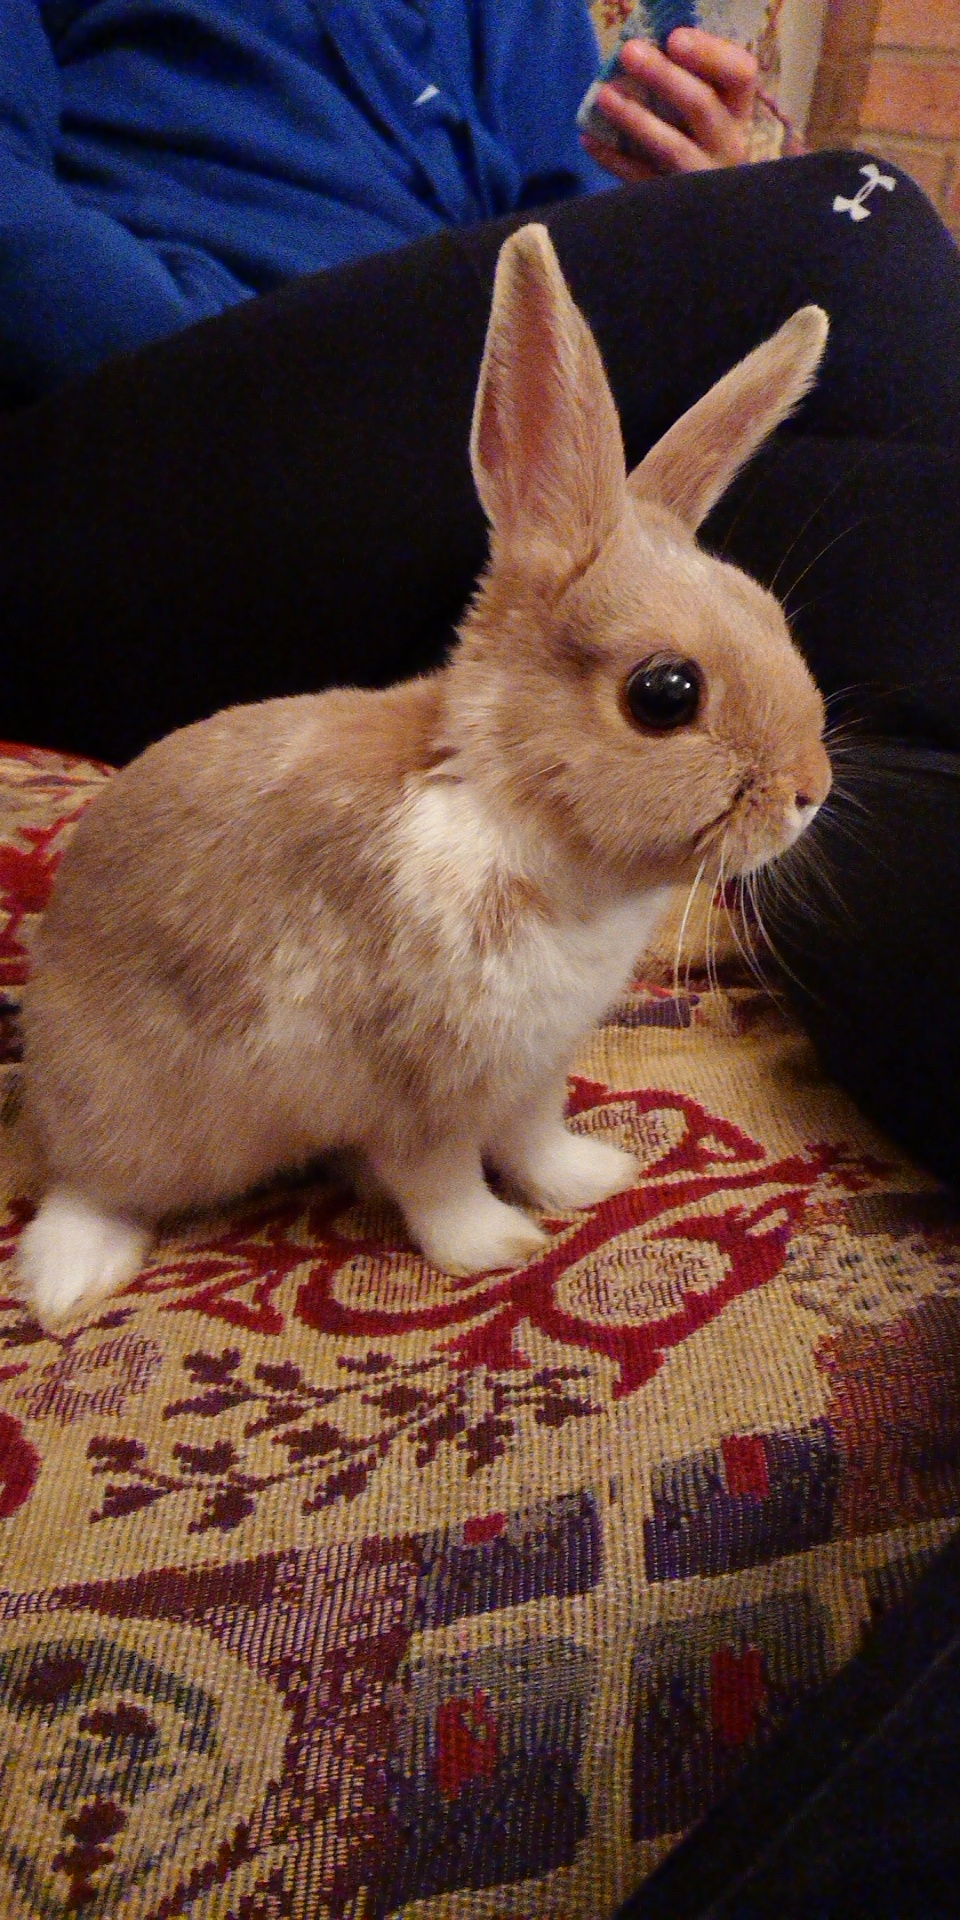bunny: (26, 204, 852, 1336)
